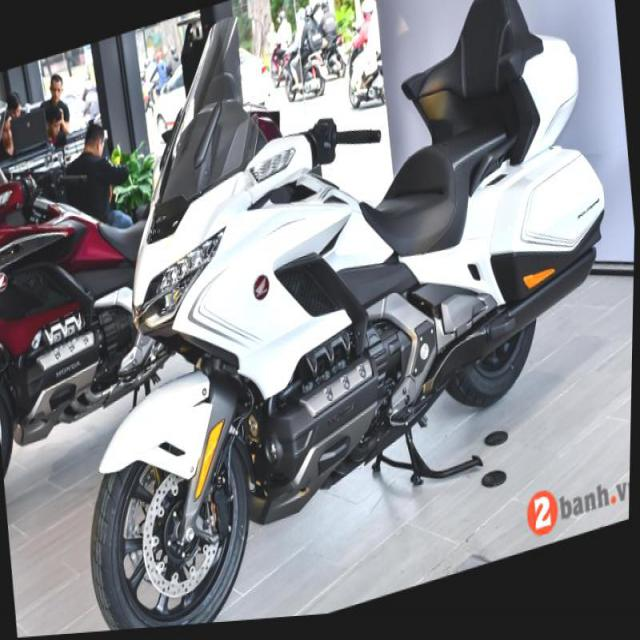Gold Wing: (42, 0, 639, 635)
